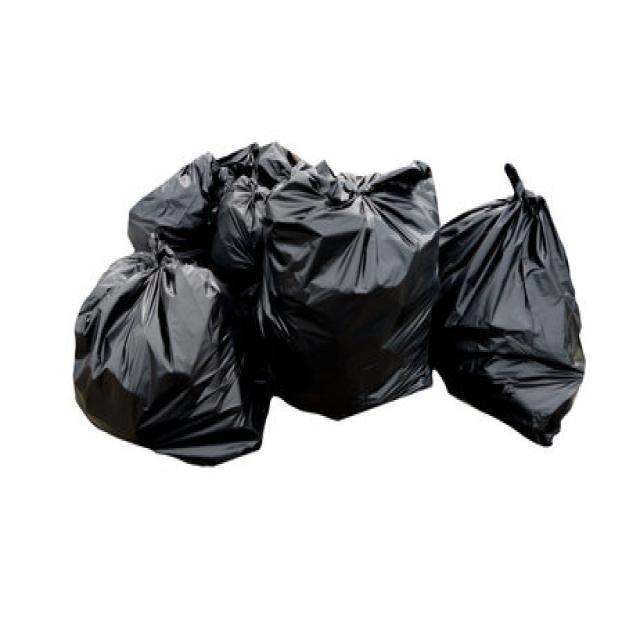trash: (70, 146, 580, 469)
